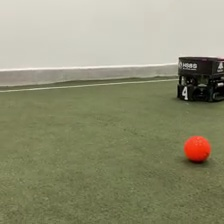ball: (183, 135, 212, 163)
robot: (175, 55, 224, 102)
